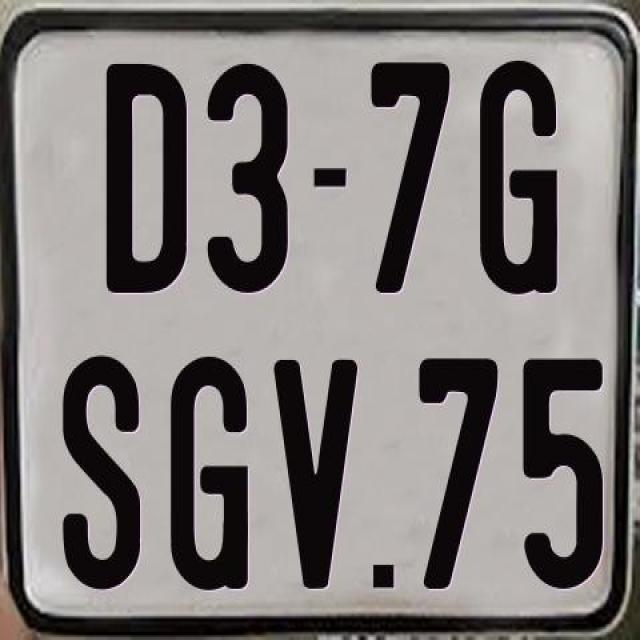3: (202, 63, 286, 294)
5: (522, 354, 610, 588)
7: (416, 356, 499, 590), (370, 61, 450, 293)
D: (105, 59, 194, 293)
G: (476, 60, 554, 302), (168, 354, 248, 588)
S: (61, 352, 143, 586)
V: (272, 356, 359, 594)
